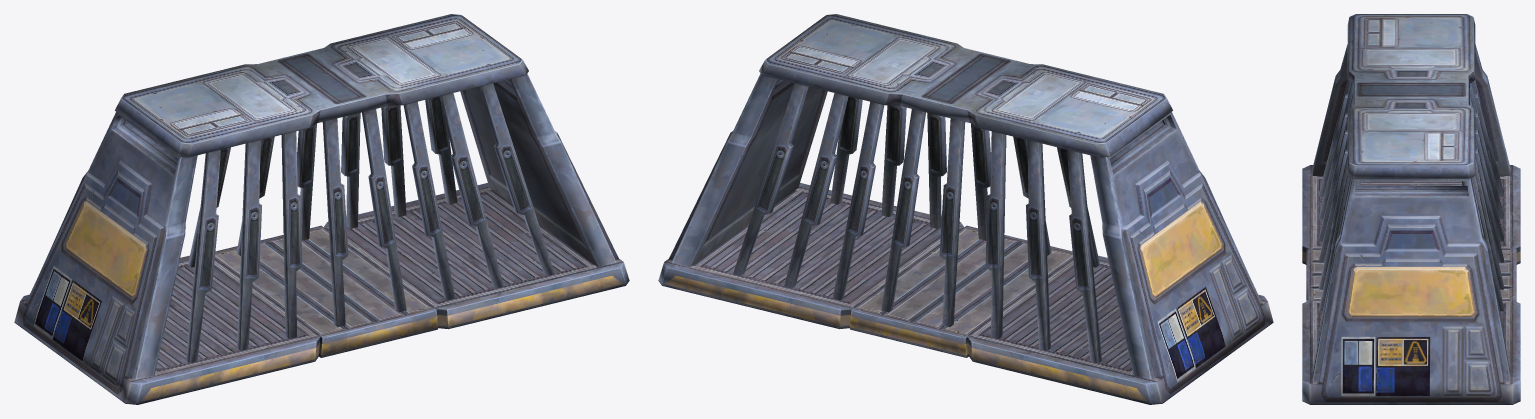
File: all_animal_pen_imperial.glb
3 renders of one model, left to right at view 1: azimuth 30°, elevation 25°; view 2: azimuth 150°, elevation 25°; view 3: azimuth 270°, elevation 25°, orthographic. The views are drawn at different scales.
Visible parts, largest first — view 1: all_animal_pen_imperial; view 2: all_animal_pen_imperial; view 3: all_animal_pen_imperial.
Part boxes in pixels (x1,y1,x2,y2): all_animal_pen_imperial: (14,14,629,404); all_animal_pen_imperial: (658,14,1273,404); all_animal_pen_imperial: (1302,14,1520,404).
Size of the model in its own units: 1.18 by 0.4974 by 0.4845.
Materials: 1 (1 with a texture image).
